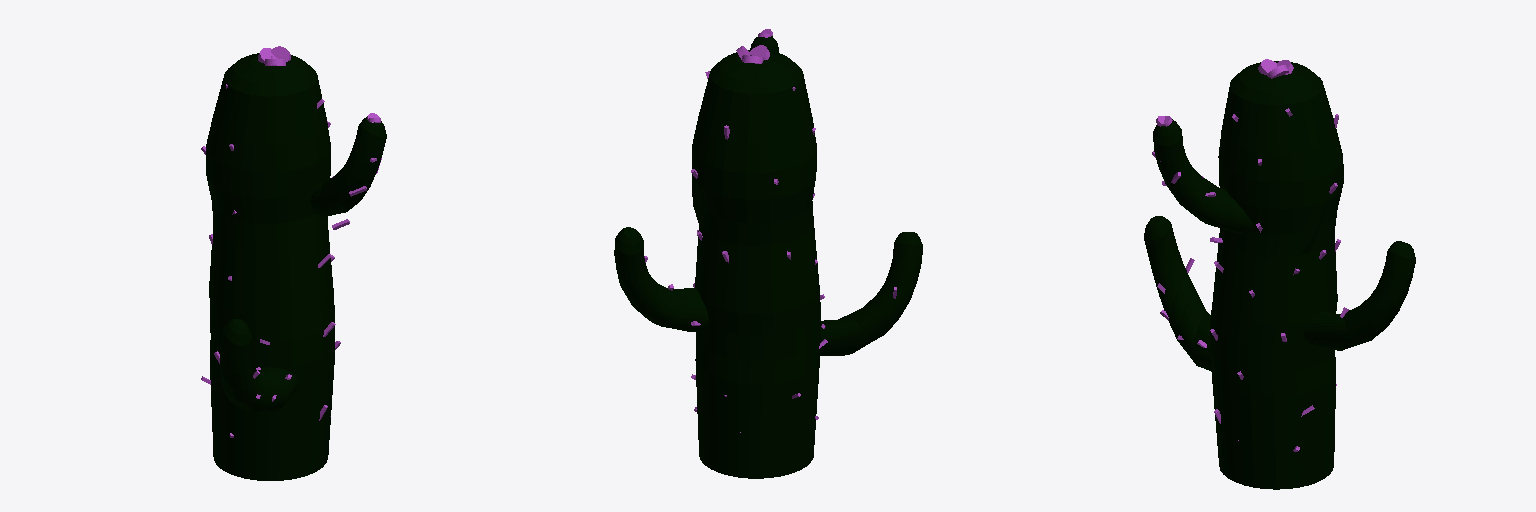
File: Cactus2.obj
3 renders of one model, left to right at view 1: azimuth 30°, elevation 25°; view 2: azimuth 150°, elevation 25°; view 3: azimuth 270°, elevation 25°, orthographic.
Parts seen in each view (by area): view 1: Cylinder, Cylinder.007, Cylinder.006; view 2: Cylinder, Cylinder.007, Cylinder.005; view 3: Cylinder, Cylinder.005, Cylinder.007, Cylinder.006.
Part boxes in pixels (bbox=[...]): Cylinder: bbox=[206, 53, 334, 480]; Cylinder.007: bbox=[219, 319, 298, 412]; Cylinder.006: bbox=[311, 117, 386, 217]; Cylinder: bbox=[692, 50, 820, 478]; Cylinder.007: bbox=[820, 232, 922, 355]; Cylinder.005: bbox=[614, 227, 708, 331]; Cylinder: bbox=[1210, 61, 1343, 489]; Cylinder.005: bbox=[1304, 241, 1415, 350]; Cylinder.007: bbox=[1144, 216, 1211, 371]; Cylinder.006: bbox=[1153, 119, 1253, 233].
Size of the model in its own units: 2.55 by 5.33 by 3.25.